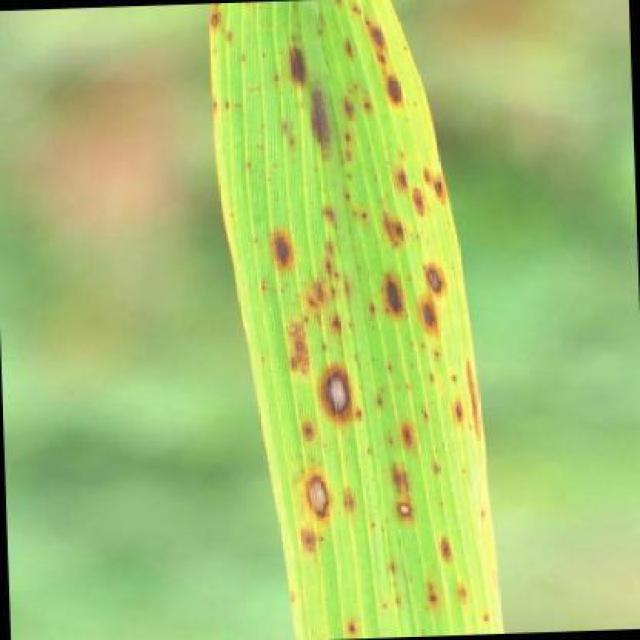Bacterial_Leaf_Blight: (382, 462, 426, 530), (316, 365, 358, 418), (300, 468, 335, 521), (360, 19, 391, 70), (388, 499, 426, 530), (422, 260, 449, 298)
Leaf_Blast: (281, 282, 365, 383), (375, 339, 471, 426), (218, 100, 292, 185), (393, 334, 461, 400), (368, 350, 430, 421), (362, 552, 416, 622), (328, 130, 374, 212), (422, 456, 476, 521), (297, 87, 341, 164), (223, 43, 280, 102), (419, 344, 470, 396), (279, 320, 318, 382), (431, 378, 472, 431), (276, 39, 316, 92), (262, 226, 304, 276), (367, 371, 411, 418), (372, 270, 410, 322), (369, 352, 413, 394), (314, 236, 352, 284), (318, 311, 360, 354), (287, 412, 330, 453), (372, 209, 411, 254), (334, 126, 372, 172), (293, 521, 332, 562), (414, 579, 452, 621), (426, 454, 474, 486), (426, 440, 466, 478), (271, 116, 306, 158), (292, 280, 334, 315), (392, 418, 428, 458), (427, 530, 464, 568), (303, 5, 339, 44), (338, 75, 370, 118), (372, 554, 411, 588), (306, 200, 345, 234), (432, 360, 471, 394), (364, 591, 404, 624), (414, 295, 446, 336), (336, 483, 370, 520), (448, 580, 483, 615), (368, 425, 403, 460), (461, 498, 497, 531), (334, 89, 364, 128), (332, 33, 366, 67), (382, 68, 408, 112), (367, 387, 399, 419), (332, 179, 365, 210), (385, 159, 412, 196), (346, 202, 379, 232), (278, 582, 316, 608), (198, 4, 231, 33), (357, 514, 391, 541), (246, 276, 280, 302), (356, 91, 384, 122), (336, 614, 372, 638), (340, 73, 372, 99), (408, 188, 432, 222), (263, 275, 292, 303), (337, 0, 369, 25), (216, 23, 247, 48), (445, 398, 469, 430), (472, 607, 502, 631), (416, 401, 442, 428), (430, 173, 452, 204), (249, 348, 277, 372), (222, 204, 250, 227), (389, 142, 416, 164), (242, 231, 264, 252), (466, 423, 488, 443), (235, 315, 257, 334), (393, 41, 410, 65), (418, 165, 434, 188)
